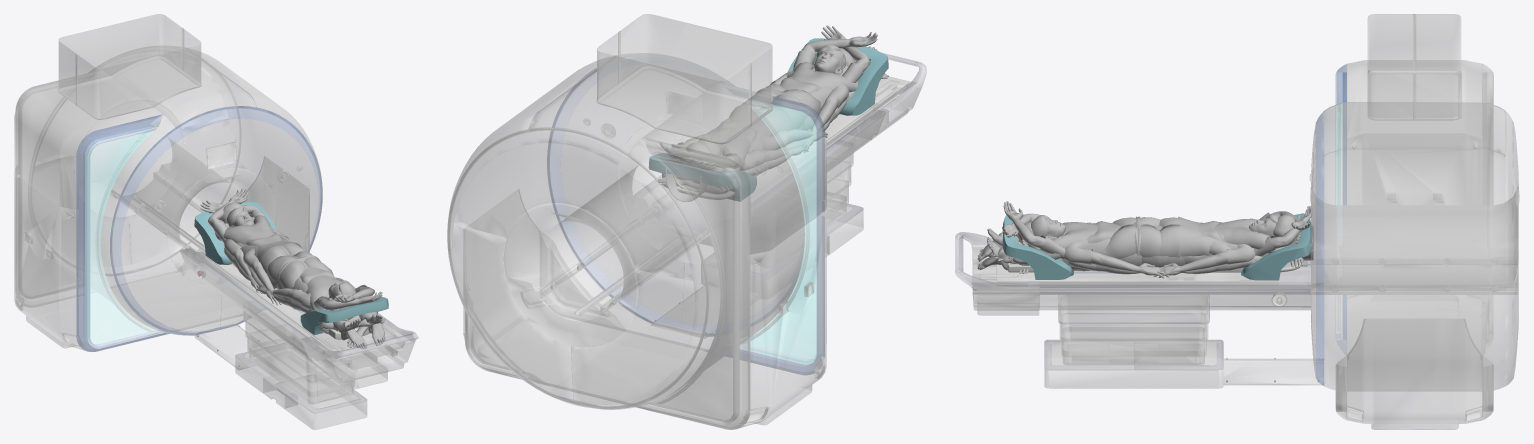
The model's file is Sharon.glb.
3 views of the same model, side by side, from view 1: azimuth 30°, elevation 25°; view 2: azimuth 150°, elevation 25°; view 3: azimuth 270°, elevation 25° (orthographic). The views are drawn at different scales.
Parts seen in each view (by area): view 1: SM_MRI_base, Table, SM_MRI_bed_inOut.001, SM_head_arm_rest.001, SM_head_arm_rest, F1baseMesh_geo1, F1baseMesh_geo1.001, F1baseMesh_geo8, scrubShirt_geo9.001, scrubPants_geo8.001, scrubShirt_geo5.001, F1baseMesh_geo3 (+5 smaller); view 2: SM_MRI_base, Table, SM_head_arm_rest, F1baseMesh_geo1.001, SM_head_arm_rest.001, scrubShirt_geo10.001, F1baseMesh_geo1, scrubShirt_geo9.001, SM_MRI_bed_inOut.001, scrubShirt_geo5.001, scrubShirt_geo1.002, scrubPants_geo4.001 (+5 smaller); view 3: SM_MRI_base, Table, SM_MRI_bed_inOut.001, SM_head_arm_rest, SM_head_arm_rest.001, F1baseMesh_geo1.001, scrubShirt_geo9.001, scrubPants_geo8.001, F1baseMesh_geo1, scrubShirt_geo10.001, scrubShirt_geo1.002, scrubShirt_geo5.001 (+7 smaller).
Boxes of the visible parts, x1,y1,x2,y2 form: SM_MRI_base: [14, 14, 322, 351]; Table: [180, 248, 418, 429]; SM_MRI_bed_inOut.001: [205, 257, 394, 360]; SM_head_arm_rest.001: [300, 296, 388, 335]; SM_head_arm_rest: [194, 202, 276, 264]; F1baseMesh_geo1: [200, 188, 360, 314]; F1baseMesh_geo1.001: [318, 282, 382, 310]; F1baseMesh_geo8: [250, 259, 385, 348]; scrubShirt_geo9.001: [215, 215, 301, 247]; scrubPants_geo8.001: [279, 257, 372, 331]; scrubShirt_geo5.001: [306, 275, 355, 310]; F1baseMesh_geo3: [250, 269, 382, 340]; SM_MRI_base: [447, 14, 826, 429]; Table: [633, 53, 926, 338]; SM_head_arm_rest: [648, 153, 756, 201]; F1baseMesh_geo1.001: [794, 25, 877, 74]; SM_head_arm_rest.001: [787, 38, 888, 115]; scrubShirt_geo10.001: [729, 105, 782, 170]; F1baseMesh_geo1: [660, 60, 855, 169]; scrubShirt_geo9.001: [683, 127, 750, 170]; SM_MRI_bed_inOut.001: [667, 86, 896, 203]; scrubShirt_geo5.001: [756, 61, 857, 93]; scrubShirt_geo1.002: [780, 50, 863, 93]; scrubPants_geo4.001: [744, 90, 804, 152]; SM_MRI_base: [1310, 14, 1519, 429]; Table: [955, 232, 1323, 388]; SM_MRI_bed_inOut.001: [996, 265, 1278, 286]; SM_head_arm_rest: [1241, 213, 1311, 280]; SM_head_arm_rest.001: [1002, 215, 1073, 279]; F1baseMesh_geo1.001: [1002, 201, 1299, 249]; scrubShirt_geo9.001: [1178, 217, 1287, 256]; scrubPants_geo8.001: [1011, 217, 1137, 271]; F1baseMesh_geo1: [1016, 205, 1312, 248]; scrubShirt_geo10.001: [1178, 217, 1255, 264]; scrubShirt_geo1.002: [1038, 215, 1142, 261]; scrubShirt_geo5.001: [1038, 217, 1139, 253].
Bounding box in the file's own units: 1.94 × 2.02 × 3.38.
7 materials, 3 textured.
